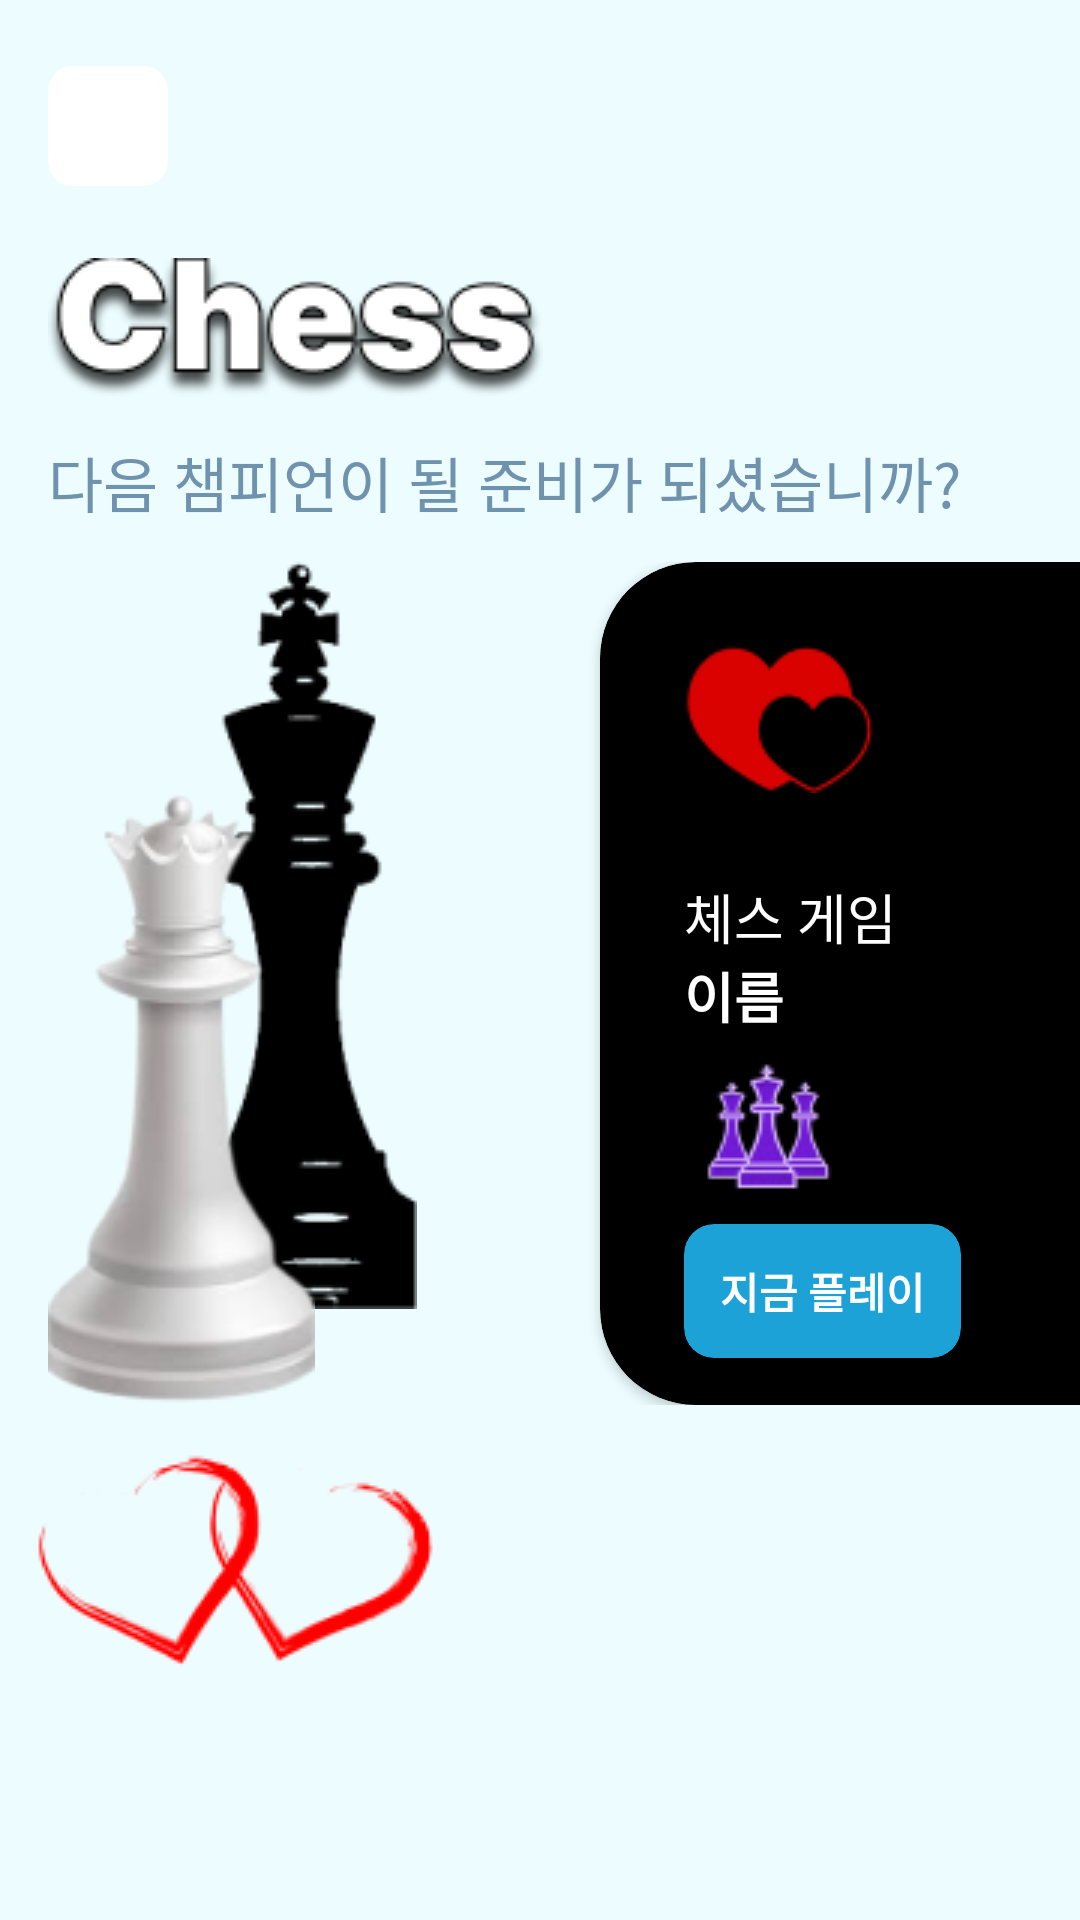

Icons on this 1080px x 1920px Android screen, each with the point to tap as point (x, y):
chess pieces: point (769, 1126)
